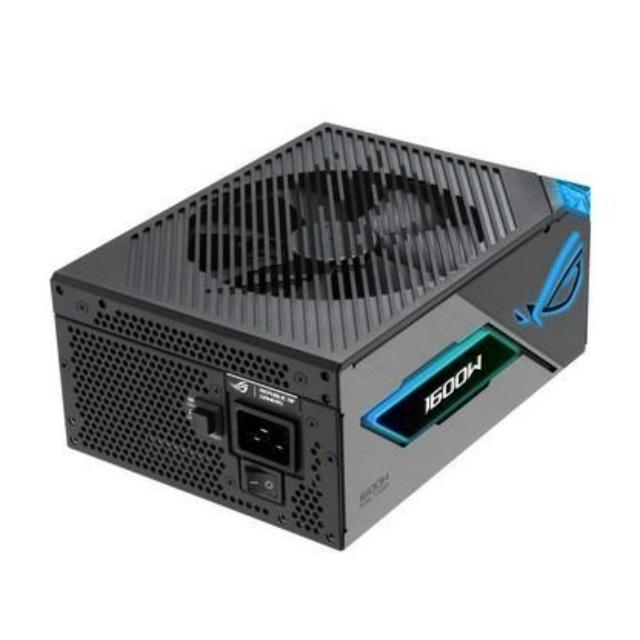PSU: (51, 118, 594, 564)
